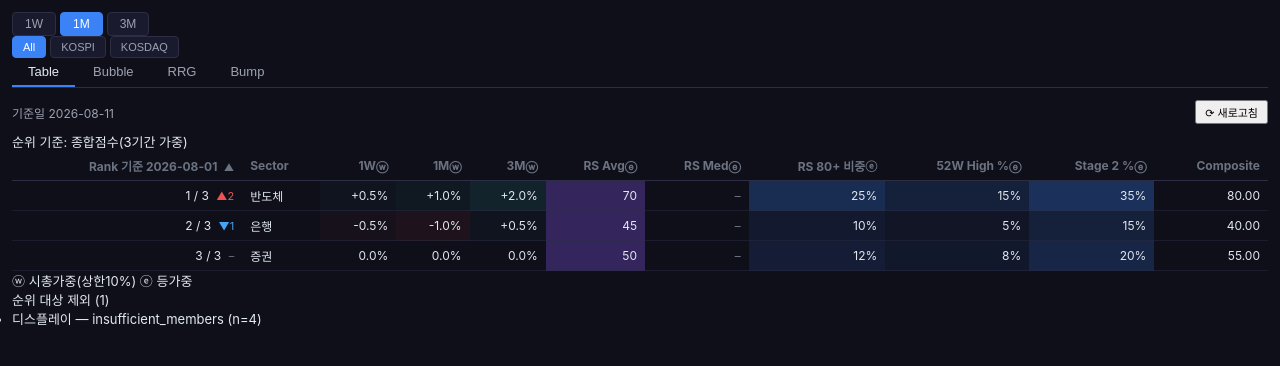
Test: AC-SUX-022 — 정렬 고지 띠 › [순위순으로] 버튼 클릭 시 rank/asc 로 복귀하고 띠가 사라진다
What coordinates should you click on to do the following:
click the text "RS Avg"
I would click on:
 (604, 166)
Its box is [584,158,625,173].
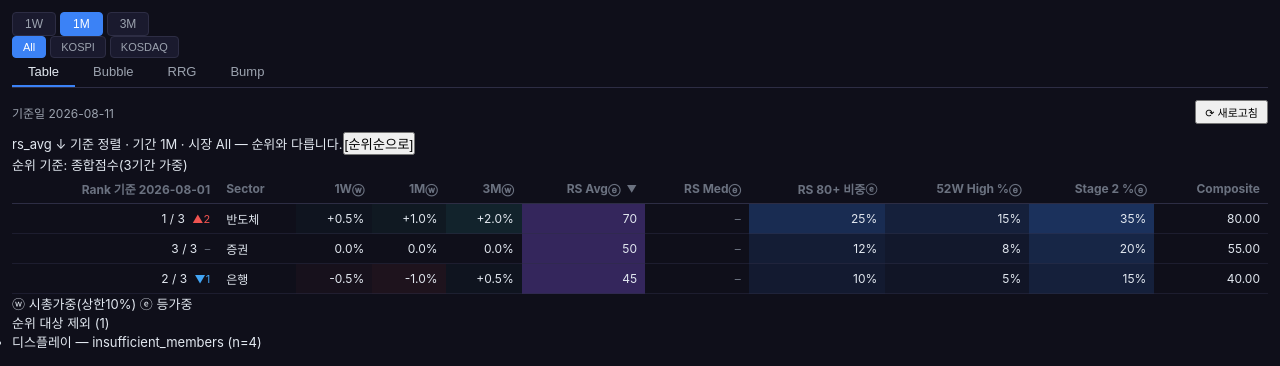
Check: the element with test id "sort-notice" is shown, box [12,132,415,155]
What coordinates should you click on to do the following:
click the button "[순위순으로]"
I would click on:
 (379, 144)
Its box is [342,132,415,155].
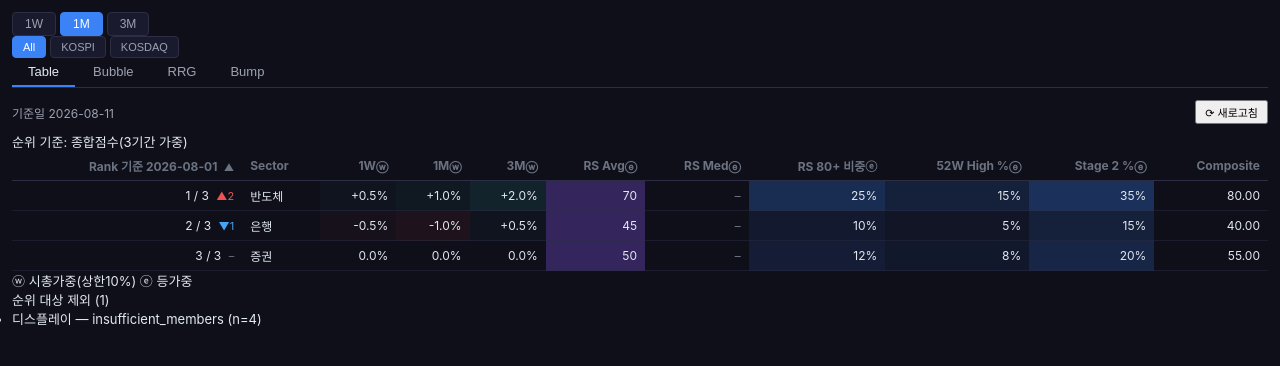
Check: the element with test id "sort-notice" is gone
